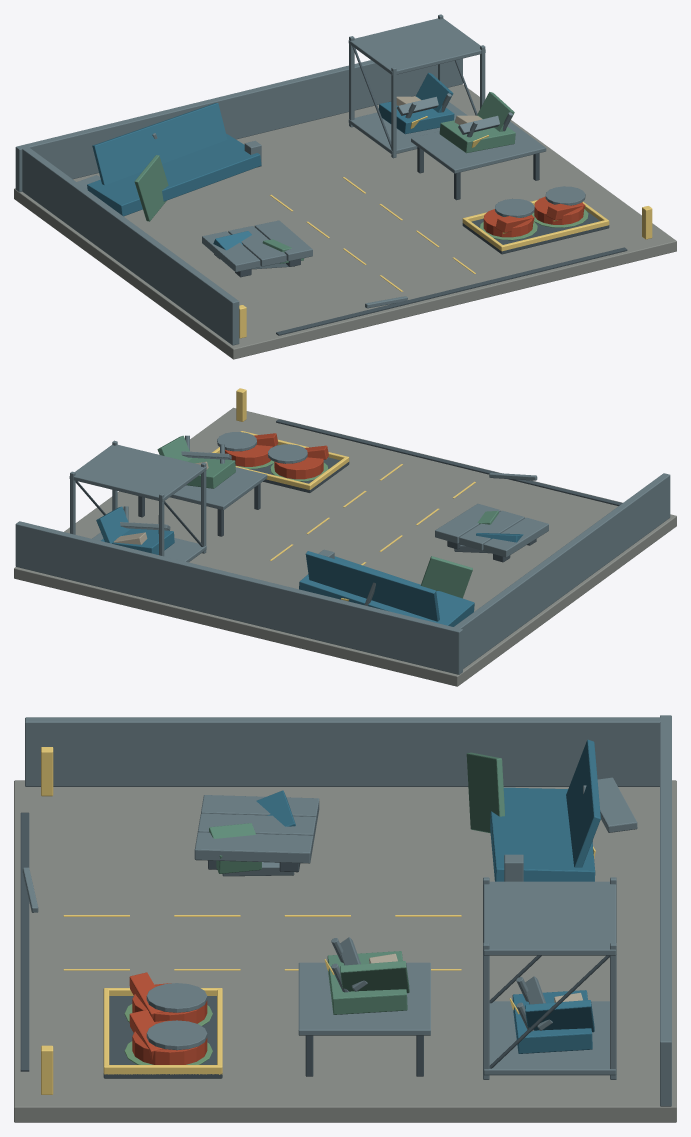
Rendered from warehouse_scene_d3.glb.
The picture shows the model from 3 angles, top to bottom: view 1: azimuth 30°, elevation 25°; view 2: azimuth 150°, elevation 25°; view 3: azimuth 270°, elevation 25°; orthographic projection. The views are drawn at different scales.
Visible parts, largest first — view 1: Loading bay slab.003, Rear cutaway wall.003, Left cutaway wall.003, Folded side wall, Container floor wreck, Full depth shelf deck.007, Packing bench top.003, Loading dock edge.003, Full depth shelf deck.006, Crushed crate base.001, Door slab, Crushed crate base (+12 smaller); view 2: Loading bay slab.003, Rear cutaway wall.003, Left cutaway wall.003, Full depth shelf deck.007, Folded side wall, Container floor wreck, Packing bench top.003, Loading dock edge.003, Door slab, Pallet deck board.009, Pallet deck board.011, Pallet deck board.010 (+11 smaller); view 3: Loading bay slab.003, Left cutaway wall.003, Full depth shelf deck.007, Container floor wreck, Packing bench top.003, Full depth shelf deck.006, Rear cutaway wall.003, Pallet deck board.011, Folded side wall, Fuel containment tray.003, Door slab, Loading dock edge.003 (+21 smaller).
Boxes of the visible parts, box(x1,y1,x2,y2) form: Loading bay slab.003: box(14, 84, 676, 359); Rear cutaway wall.003: box(15, 58, 462, 192); Left cutaway wall.003: box(21, 146, 239, 345); Folded side wall: box(92, 103, 227, 185); Container floor wreck: box(87, 134, 261, 216); Full depth shelf deck.007: box(348, 18, 485, 75); Packing bench top.003: box(411, 121, 546, 173); Loading dock edge.003: box(276, 247, 627, 335); Full depth shelf deck.006: box(348, 102, 467, 154); Crushed crate base.001: box(439, 115, 515, 153); Door slab: box(134, 155, 168, 221); Crushed crate base: box(378, 96, 454, 134); Loading bay slab.003: box(14, 407, 676, 686); Rear cutaway wall.003: box(15, 521, 462, 674); Left cutaway wall.003: box(452, 473, 670, 668); Full depth shelf deck.007: box(69, 444, 206, 501); Folded side wall: box(305, 551, 439, 621); Container floor wreck: box(299, 556, 474, 626); Packing bench top.003: box(170, 467, 267, 510); Loading dock edge.003: box(276, 419, 622, 505); Door slab: box(420, 556, 472, 598); Pallet deck board.009: box(483, 517, 548, 557); Pallet deck board.011: box(435, 503, 500, 543); Pallet deck board.010: box(459, 510, 524, 550); Loading bay slab.003: box(14, 780, 676, 1122); Left cutaway wall.003: box(25, 717, 664, 786); Full depth shelf deck.007: box(483, 881, 616, 955); Container floor wreck: box(490, 787, 595, 881); Packing bench top.003: box(298, 962, 430, 1035); Full depth shelf deck.006: box(483, 1001, 616, 1075); Rear cutaway wall.003: box(660, 715, 671, 1106); Pallet deck board.011: box(194, 832, 313, 863); Folded side wall: box(566, 739, 600, 867); Fuel containment tray.003: box(103, 996, 222, 1078); Door slab: box(466, 752, 504, 833); Loading dock edge.003: box(20, 812, 29, 1071).
Size of the model in its own units: 14 by 3.02 by 12.
